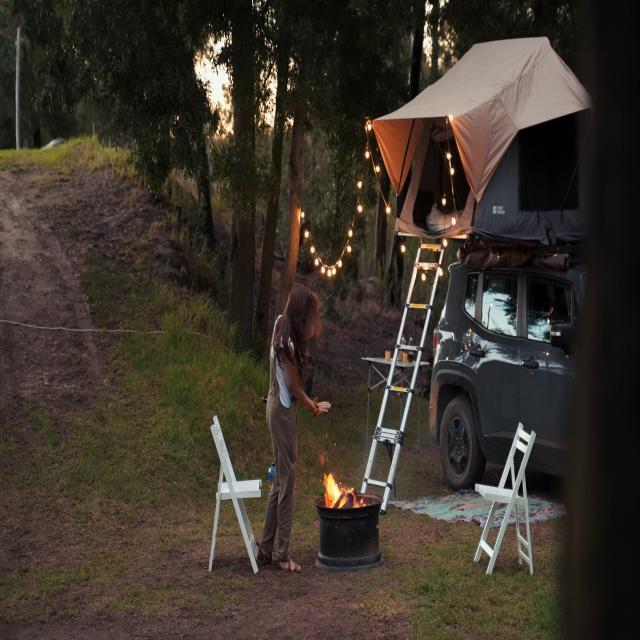Fire: (322, 463, 352, 511)
